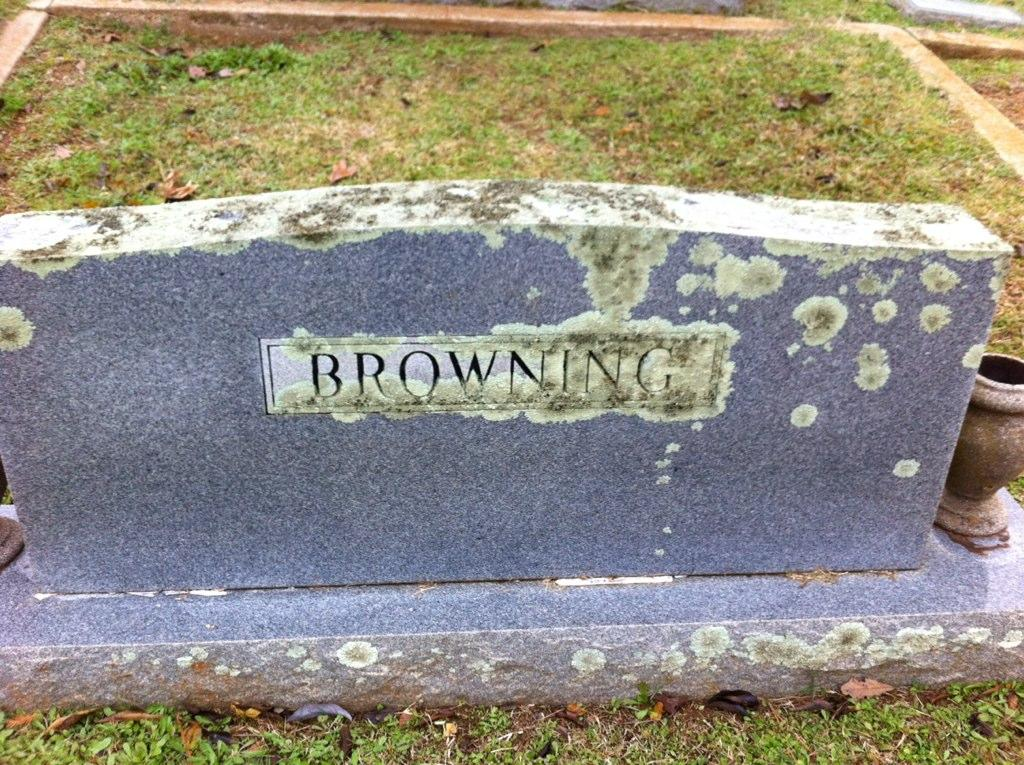upright: (0, 185, 1023, 698)
